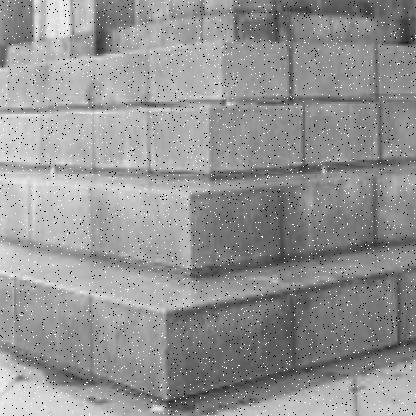stair_up: (54, 39, 374, 253)
